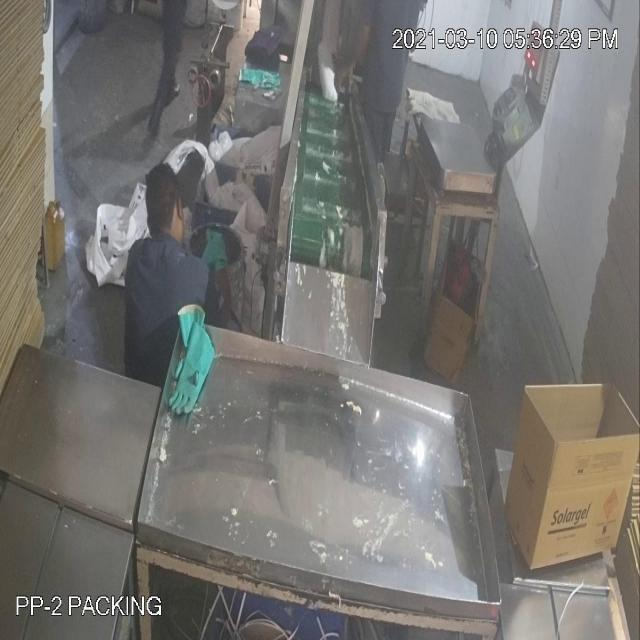No_Gloves: (328, 18, 376, 98)
